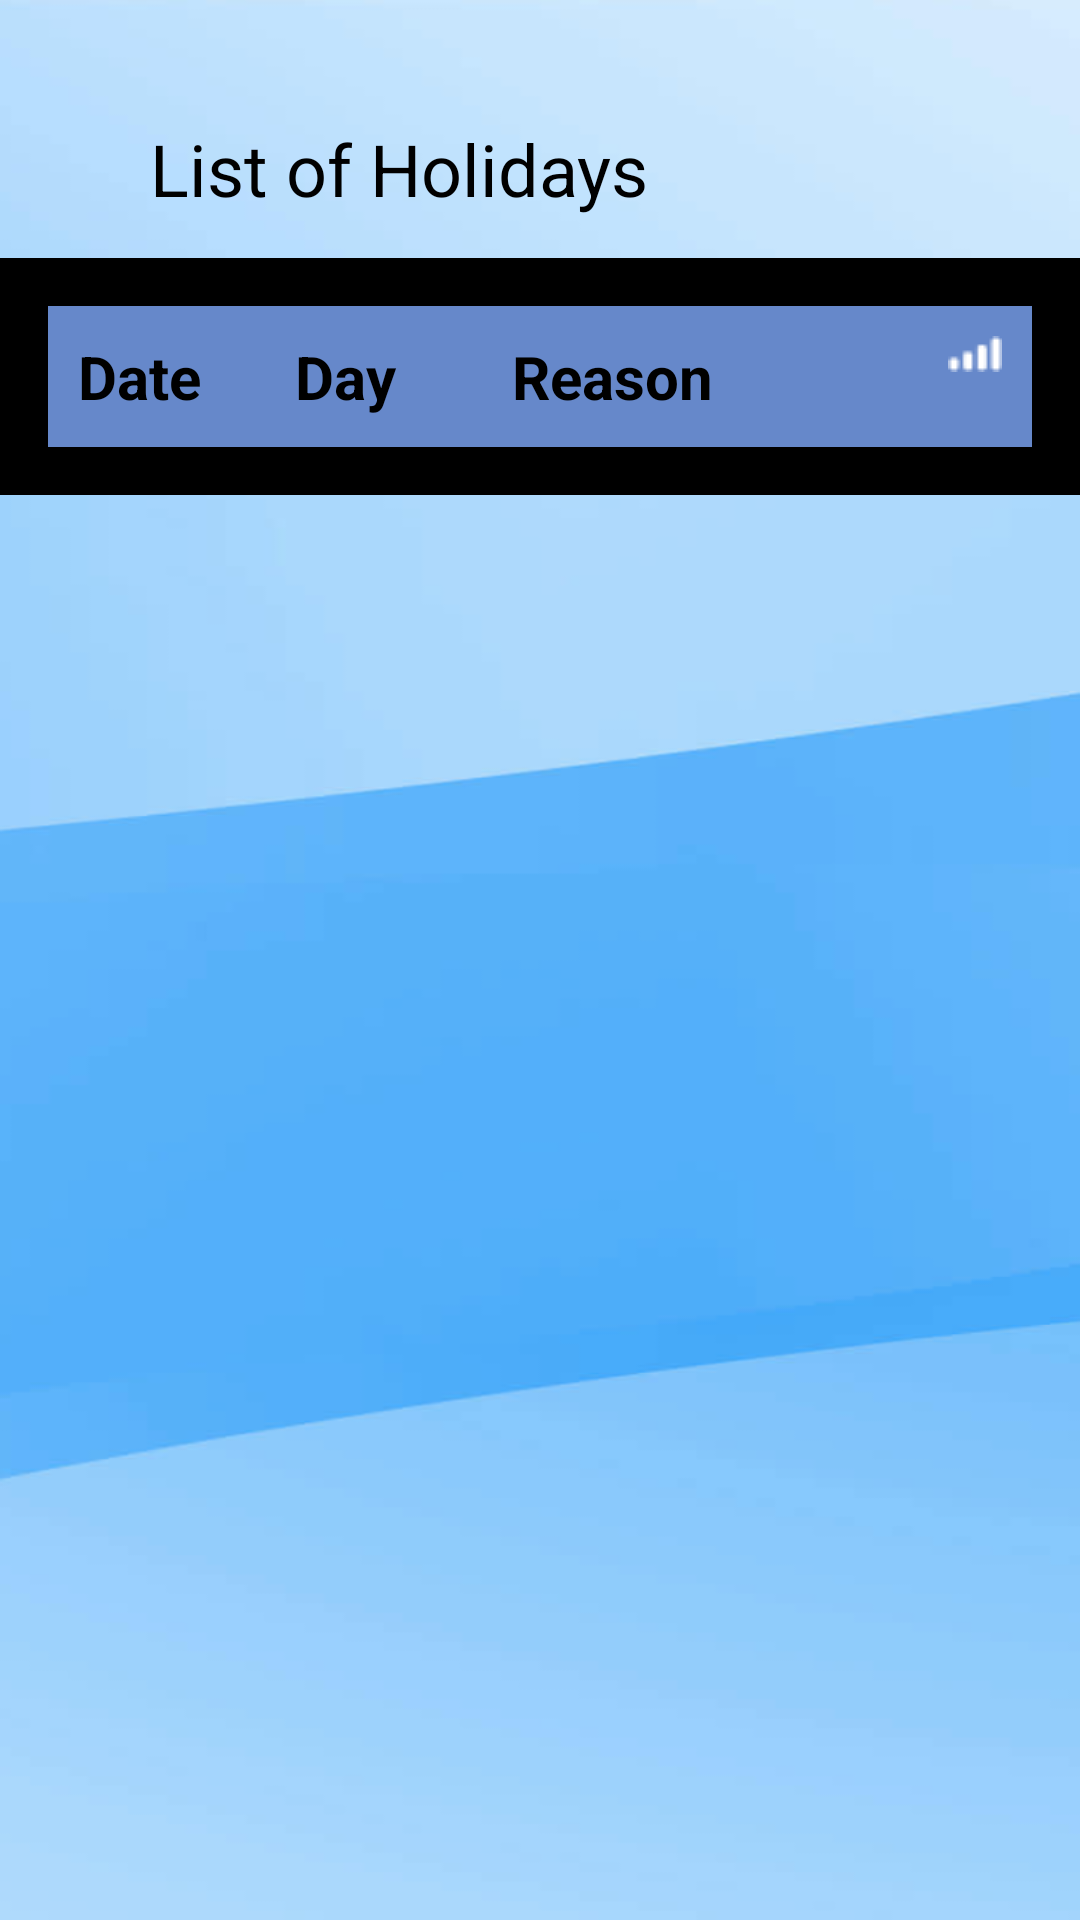

Icons on this 1080px x 1920px Android screen, each with the point to tap as (x=x, y=y):
cellular connection: (x=975, y=354)
